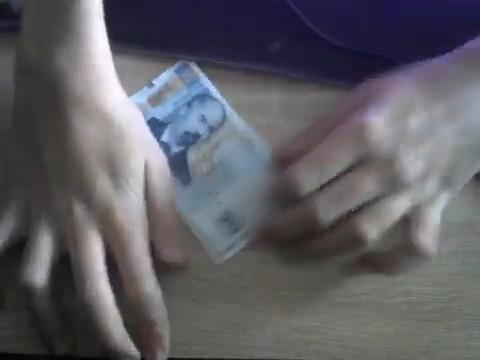20leva: (130, 61, 279, 266)
